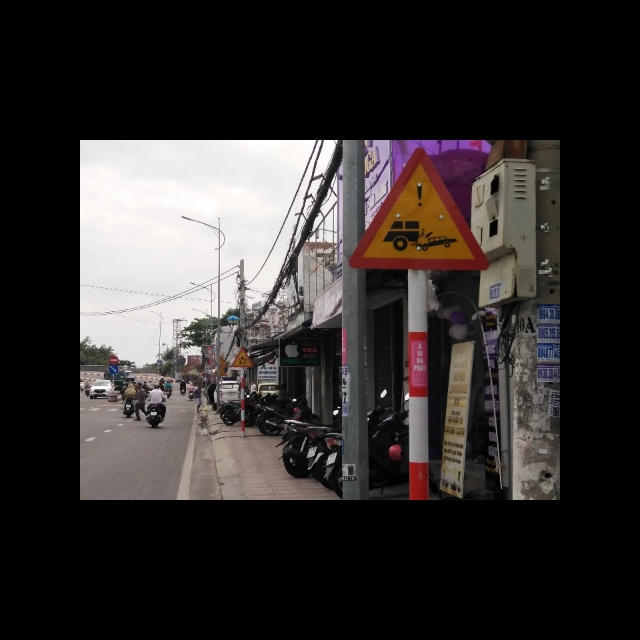Đoạn đường hay xảy ra tai nạn: (348, 145, 492, 268)
